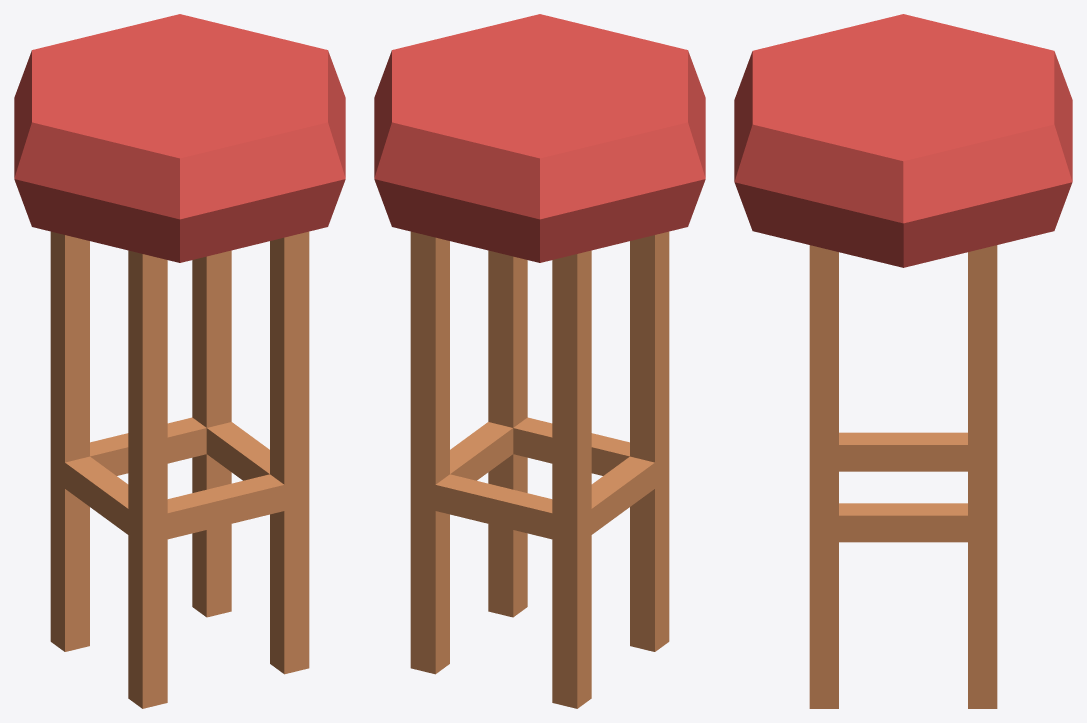
File: stoolBar.obj
The picture shows the model from 3 angles, left to right: view 1: azimuth 30°, elevation 25°; view 2: azimuth 150°, elevation 25°; view 3: azimuth 270°, elevation 25°; orthographic projection.
Parts seen in each view (by area): view 1: stoolBar; view 2: stoolBar; view 3: stoolBar.
Boxes of the visible parts, left/top/right/bottom form: stoolBar: left=14, top=14, right=345, bottom=708; stoolBar: left=374, top=14, right=705, bottom=708; stoolBar: left=734, top=14, right=1072, bottom=708.
Bounding box in the file's own units: 0.2654 × 0.435 × 0.2299.
